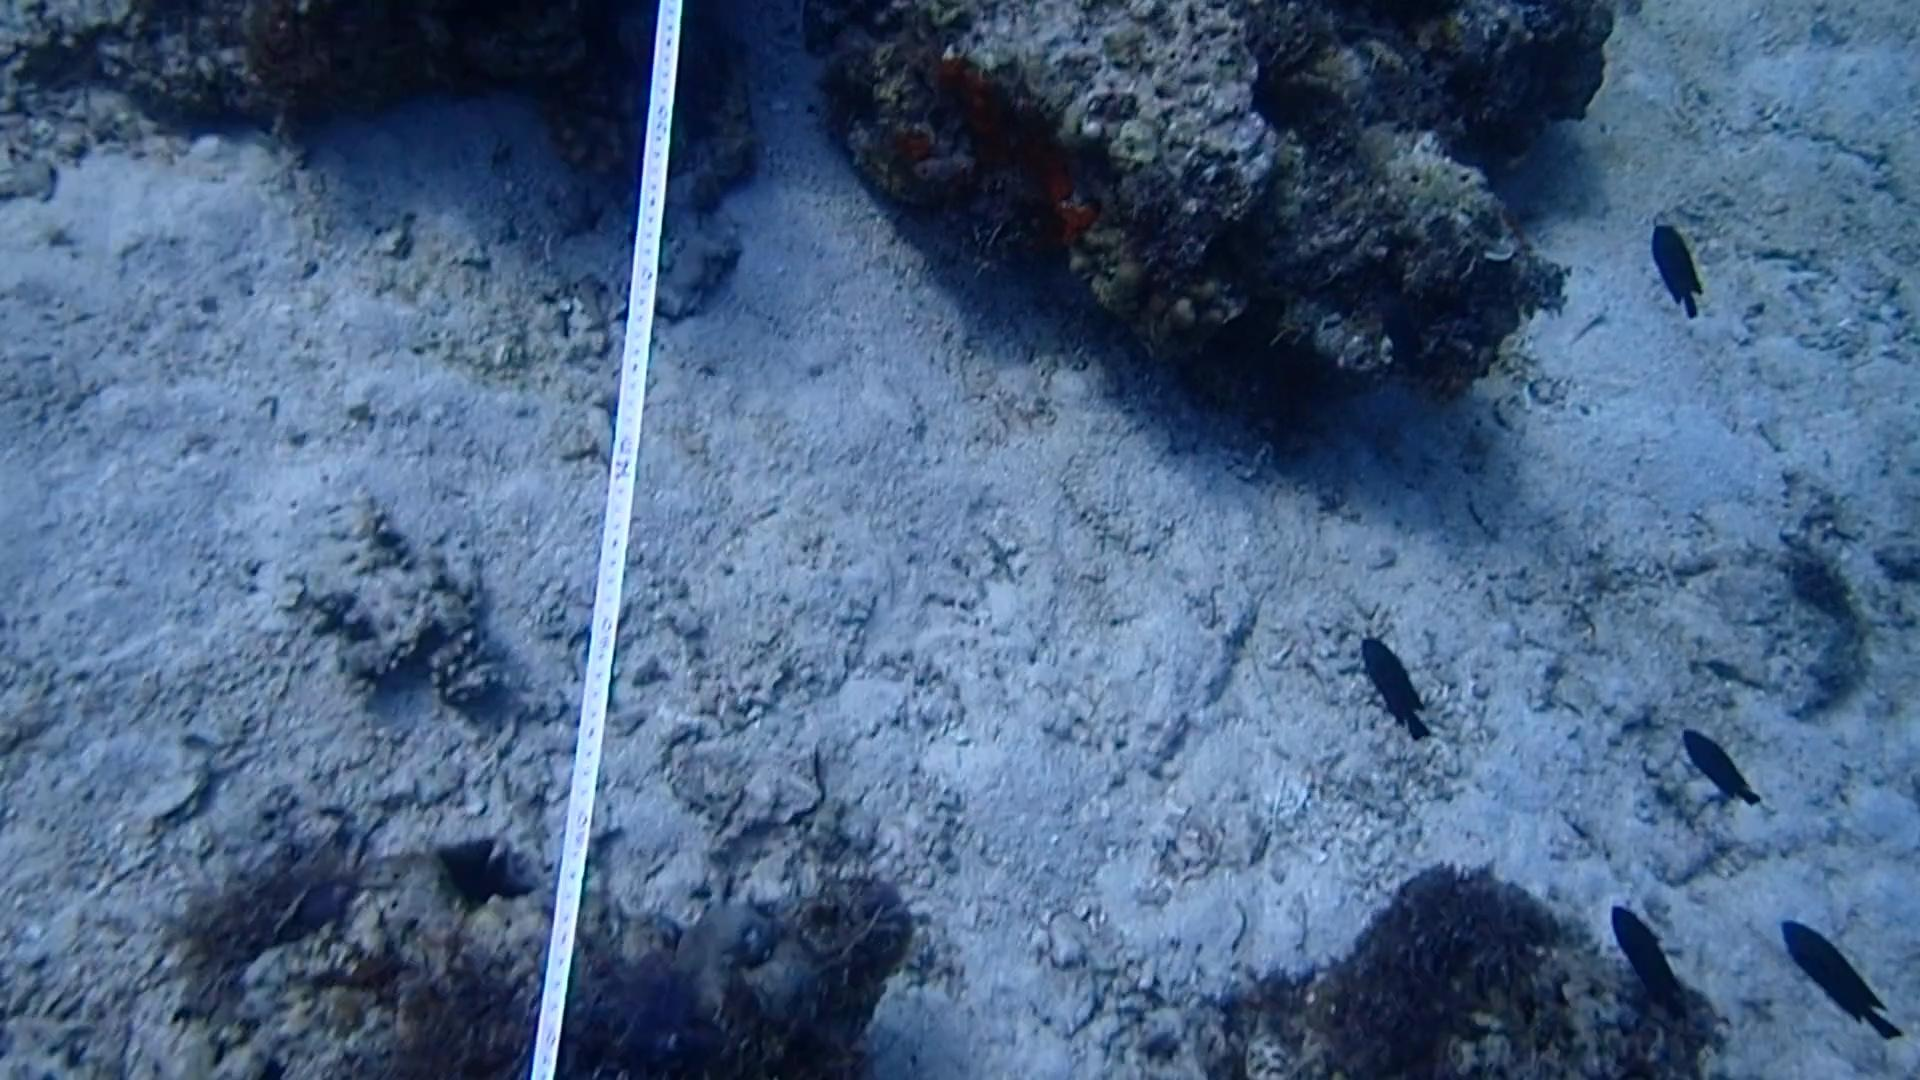Dark Fish: (1768, 909, 1915, 1050), (1604, 895, 1695, 1029), (1350, 634, 1445, 749), (1676, 717, 1778, 815), (1636, 214, 1708, 330)
